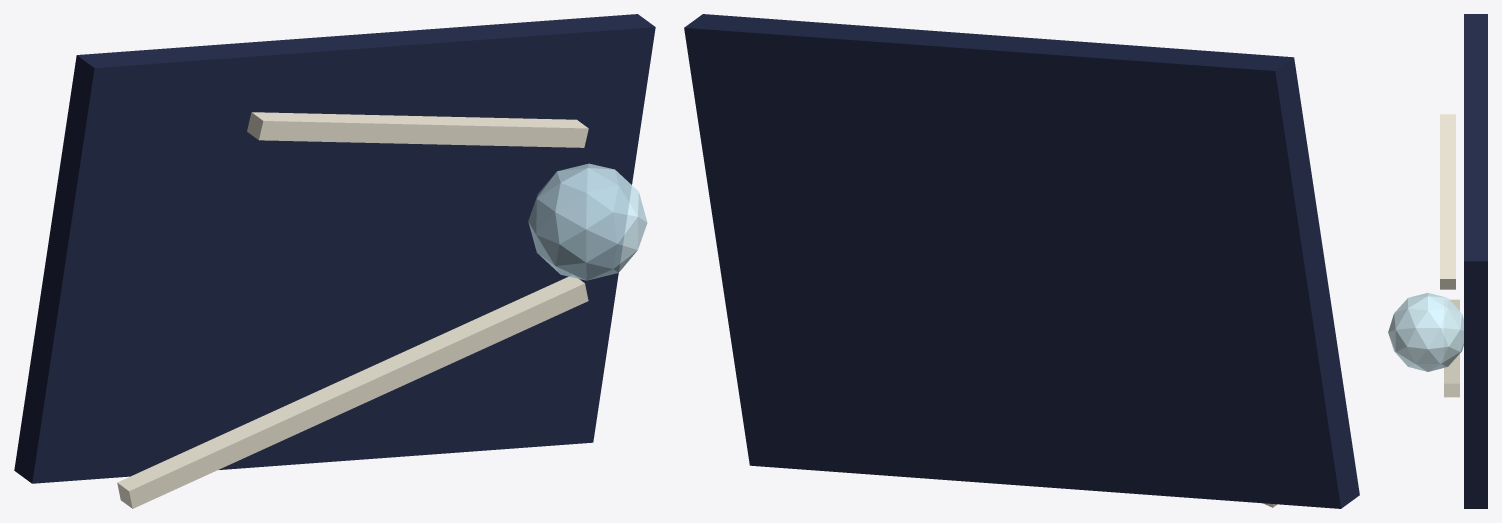
The model's file is 02_world_prop_polish.glb.
The picture shows the model from 3 angles, left to right: view 1: azimuth 30°, elevation 25°; view 2: azimuth 150°, elevation 25°; view 3: azimuth 270°, elevation 25°; orthographic projection. The views are drawn at different scales.
Visible parts, largest first — view 1: object_overlay_plate, edge_wear_a, glow_socket, edge_wear_b; view 2: object_overlay_plate; view 3: object_overlay_plate, glow_socket, edge_wear_b, edge_wear_a.
Part boxes in pixels (<box>): object_overlay_plate: <box>14,14,655,483</box>; edge_wear_a: <box>117,275,588,508</box>; glow_socket: <box>528,163,647,280</box>; edge_wear_b: <box>247,112,588,147</box>; object_overlay_plate: <box>684,14,1359,508</box>; object_overlay_plate: <box>1464,14,1487,508</box>; glow_socket: <box>1388,293,1463,371</box>; edge_wear_b: <box>1440,114,1455,289</box>; edge_wear_a: <box>1444,299,1459,397</box>.
Size of the model in its own units: 1.21 by 0.9174 by 0.25.
